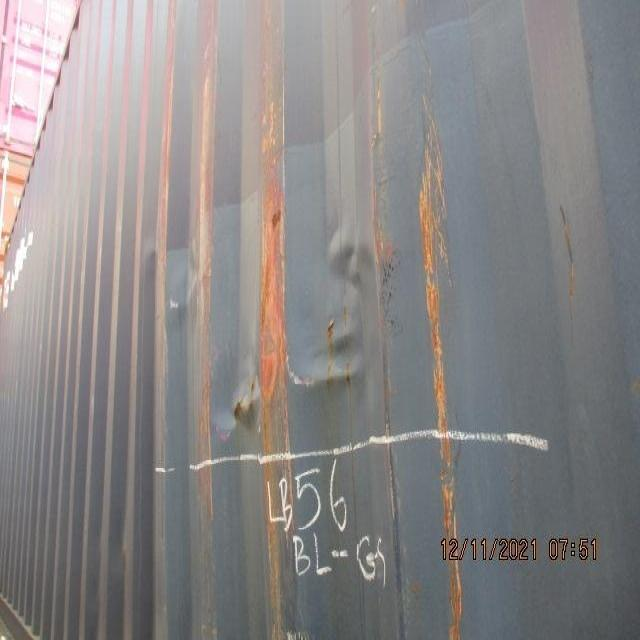dent: (143, 168, 398, 466)
